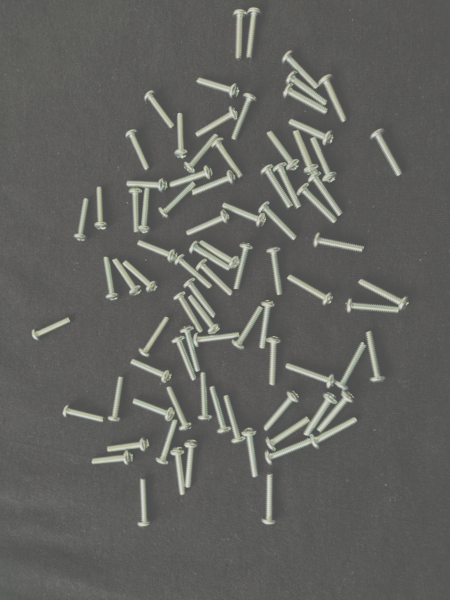longscrew: (358, 278, 411, 312), (297, 183, 339, 225), (317, 390, 357, 434), (370, 128, 405, 178), (308, 171, 345, 218), (310, 416, 359, 450), (258, 200, 298, 241), (263, 390, 301, 433), (335, 340, 367, 391), (266, 416, 311, 452), (304, 391, 339, 437), (281, 50, 320, 91), (287, 273, 334, 307), (260, 164, 294, 210), (283, 83, 329, 117), (158, 181, 197, 220), (231, 305, 264, 351), (285, 71, 328, 106), (265, 437, 315, 467), (319, 74, 349, 124), (196, 258, 234, 297), (174, 253, 214, 290), (184, 133, 220, 174), (267, 130, 302, 172), (183, 278, 218, 319), (285, 361, 336, 389), (310, 137, 340, 184), (195, 106, 239, 138), (188, 294, 222, 335), (273, 162, 302, 210), (138, 316, 171, 358), (212, 138, 245, 180), (289, 118, 335, 148), (231, 92, 259, 141), (173, 291, 204, 335), (189, 241, 231, 272), (122, 259, 159, 294), (199, 239, 240, 270), (192, 169, 237, 197), (111, 258, 143, 297), (365, 330, 388, 384), (167, 387, 194, 432), (222, 202, 267, 229), (186, 210, 231, 237), (293, 130, 320, 175), (144, 91, 175, 130), (223, 395, 247, 445), (172, 335, 197, 382), (125, 129, 152, 172), (155, 418, 179, 466), (232, 242, 255, 292), (131, 358, 173, 385), (169, 164, 214, 189), (196, 75, 241, 100), (313, 233, 366, 254), (209, 386, 232, 434), (132, 398, 176, 422), (180, 325, 202, 372), (31, 317, 72, 342), (241, 428, 261, 479), (265, 246, 285, 297), (345, 298, 400, 316), (137, 240, 178, 264), (246, 7, 264, 61), (261, 472, 278, 526), (170, 446, 188, 496), (259, 300, 277, 350), (62, 404, 106, 424), (102, 256, 121, 302), (266, 336, 283, 387), (107, 375, 125, 423), (197, 372, 214, 422), (193, 331, 240, 349), (73, 197, 91, 243), (233, 8, 248, 62), (183, 440, 199, 490), (173, 113, 190, 160), (91, 450, 135, 467), (125, 177, 169, 194), (127, 188, 143, 234), (94, 186, 110, 231), (106, 437, 150, 453), (138, 188, 153, 234), (138, 478, 150, 528)
